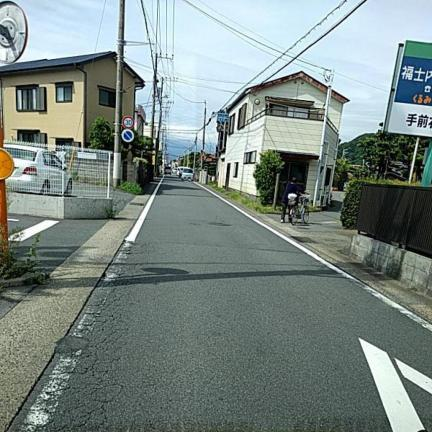Road: (11, 177, 431, 431)
